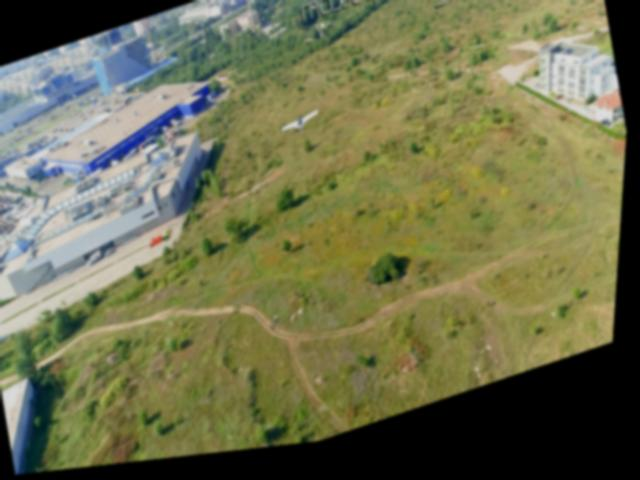plane: (281, 113, 325, 145)
